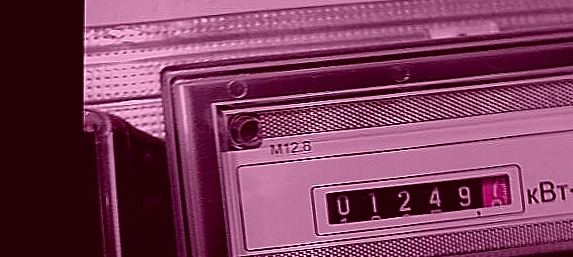0: (333, 188, 352, 214)
1: (365, 187, 380, 212)
2: (395, 185, 415, 211)
4: (427, 180, 445, 207)
7: (487, 172, 502, 196)
9: (456, 180, 474, 205)
screen: (304, 162, 538, 240)
